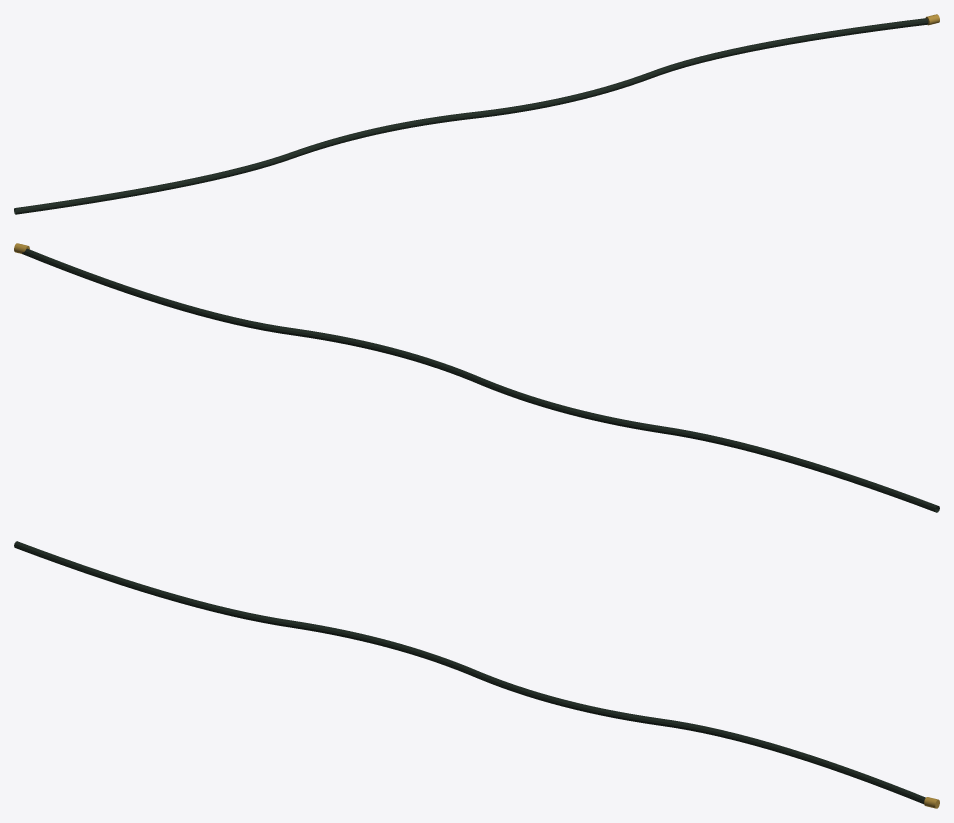
File: hose-floor-a026aef173.glb
The picture shows the model from 3 angles, top to bottom: view 1: azimuth 30°, elevation 25°; view 2: azimuth 150°, elevation 25°; view 3: azimuth 330°, elevation 25°; orthographic projection. The views are drawn at different scales.
Visible parts, largest first — view 1: coupling; view 2: coupling; view 3: coupling.
Boxes of the visible parts, bbox=[...] form: coupling: bbox=[14, 14, 939, 214]; coupling: bbox=[14, 243, 939, 512]; coupling: bbox=[14, 541, 939, 808].
Bounding box in the file's own units: 6.04 × 0.0523 × 0.4453.
